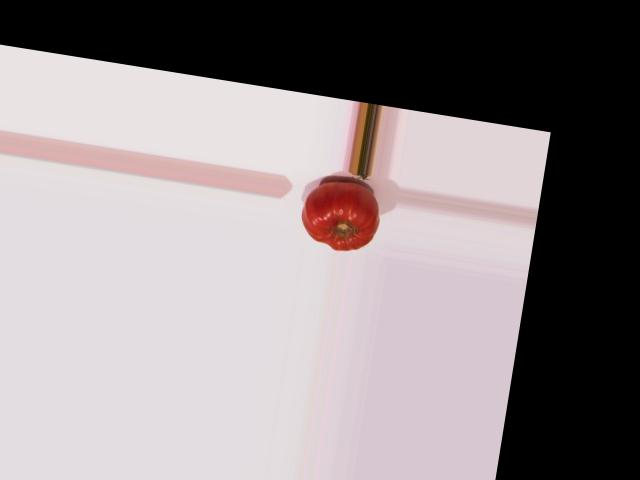tomato: (297, 176, 383, 255)
